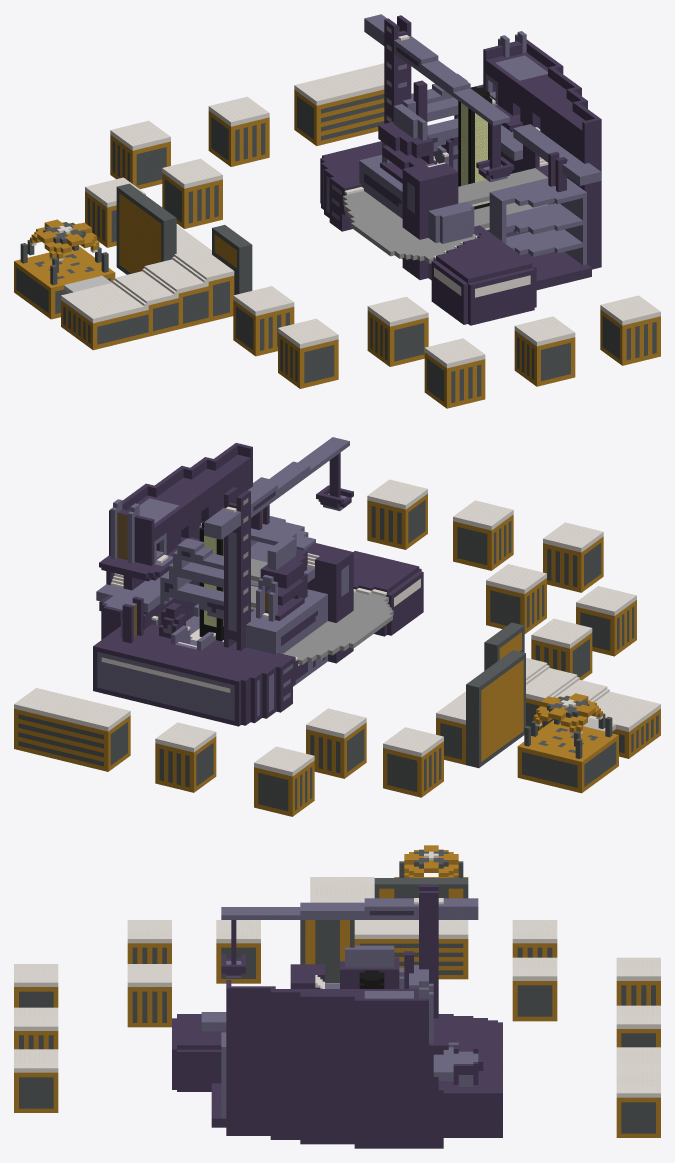
Rendered from minecraft.obj.
The picture shows the model from 3 angles, top to bottom: view 1: azimuth 30°, elevation 25°; view 2: azimuth 150°, elevation 25°; view 3: azimuth 270°, elevation 25°; orthographic projection.
Bounding box in the file's own units: 1150 × 440 × 1310.
